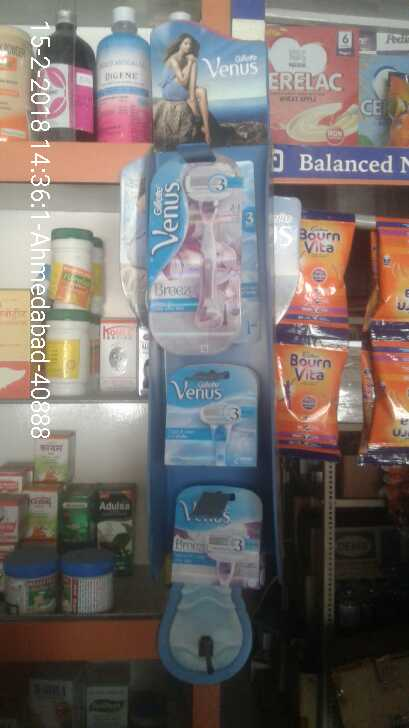venus: (148, 144, 242, 355), (164, 483, 272, 596), (156, 363, 264, 470)
